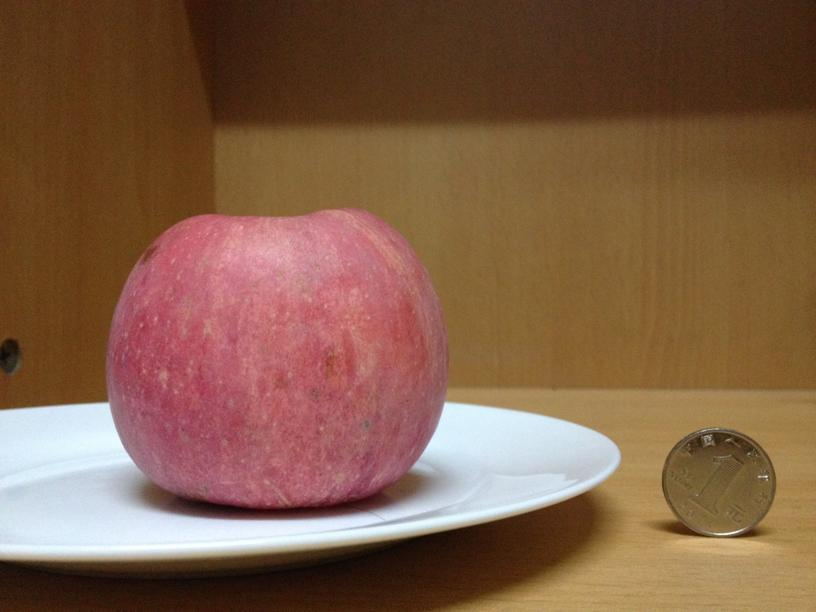apple: (101, 204, 449, 512)
coin: (661, 424, 777, 540)
